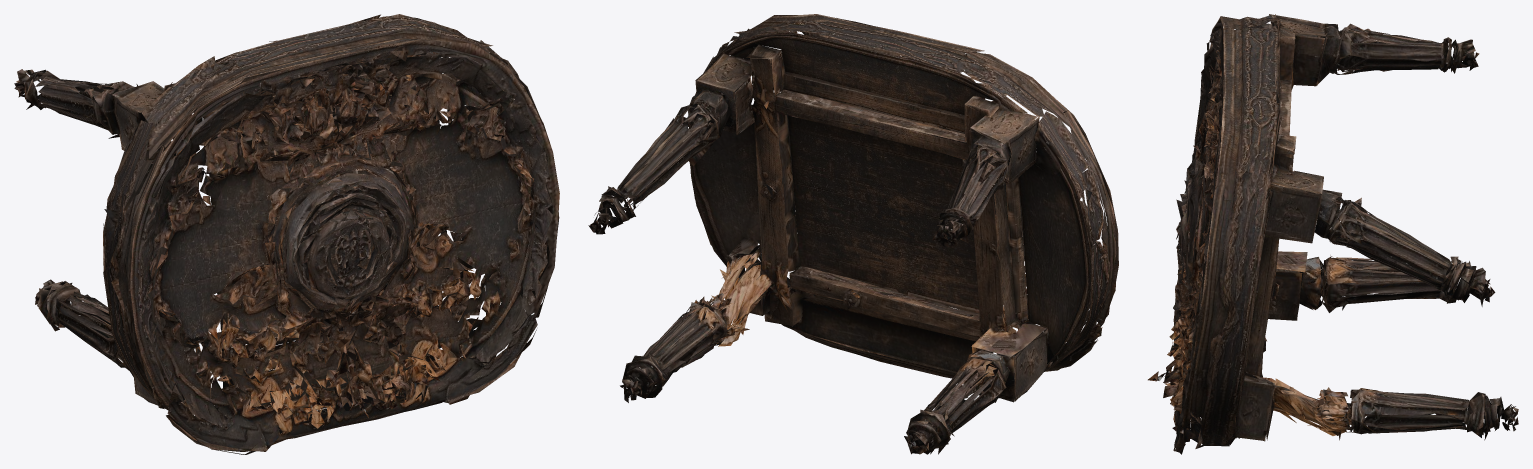
File: TableBroken.fbx
3 views of the same model, side by side, from view 1: azimuth 30°, elevation 25°; view 2: azimuth 150°, elevation 25°; view 3: azimuth 270°, elevation 25° (orthographic). The views are drawn at different scales.
Parts seen in each view (by area): view 1: TableBroken; view 2: TableBroken; view 3: TableBroken.
Part boxes in pixels (x1,y1,x2,y2): TableBroken: (14, 14, 559, 454); TableBroken: (588, 14, 1118, 454); TableBroken: (1148, 14, 1518, 454).
Bounding box in the file's own units: 102 × 80.42 × 78.47.
Materials: 1 (1 with a texture image).
